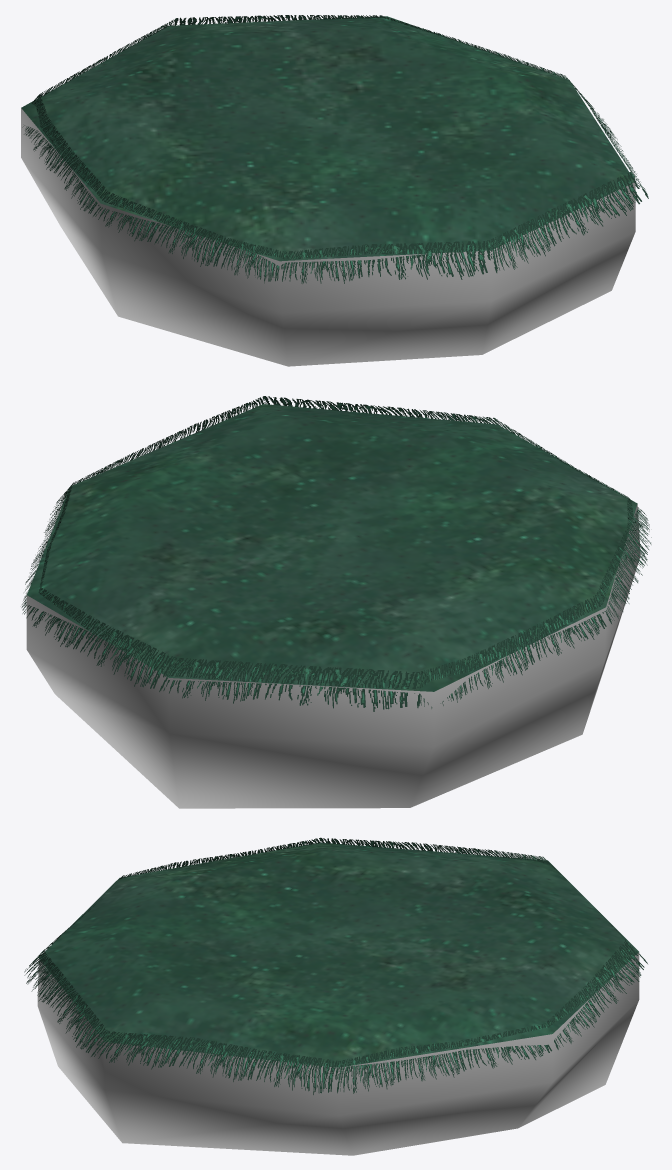
File: platform_small.fbx
3 renders of one model, top to bottom at view 1: azimuth 30°, elevation 25°; view 2: azimuth 150°, elevation 25°; view 3: azimuth 270°, elevation 25°, orthographic. The views are drawn at different scales.
Visible parts, largest first — view 1: plaatform_small, platform_deformed_grass1grassonly1; view 2: plaatform_small, platform_deformed_grass1grassonly1; view 3: plaatform_small, platform_deformed_grass1grassonly1.
Part boxes in pixels (<box>): plaatform_small: <box>21,16,635,366</box>; platform_deformed_grass1grassonly1: <box>22,15,648,283</box>; plaatform_small: <box>26,404,640,808</box>; platform_deformed_grass1grassonly1: <box>21,396,651,711</box>; plaatform_small: <box>37,842,639,1155</box>; platform_deformed_grass1grassonly1: <box>24,837,647,1094</box>.
Bounding box in the file's own units: 6.36 × 2.39 × 7.17.
